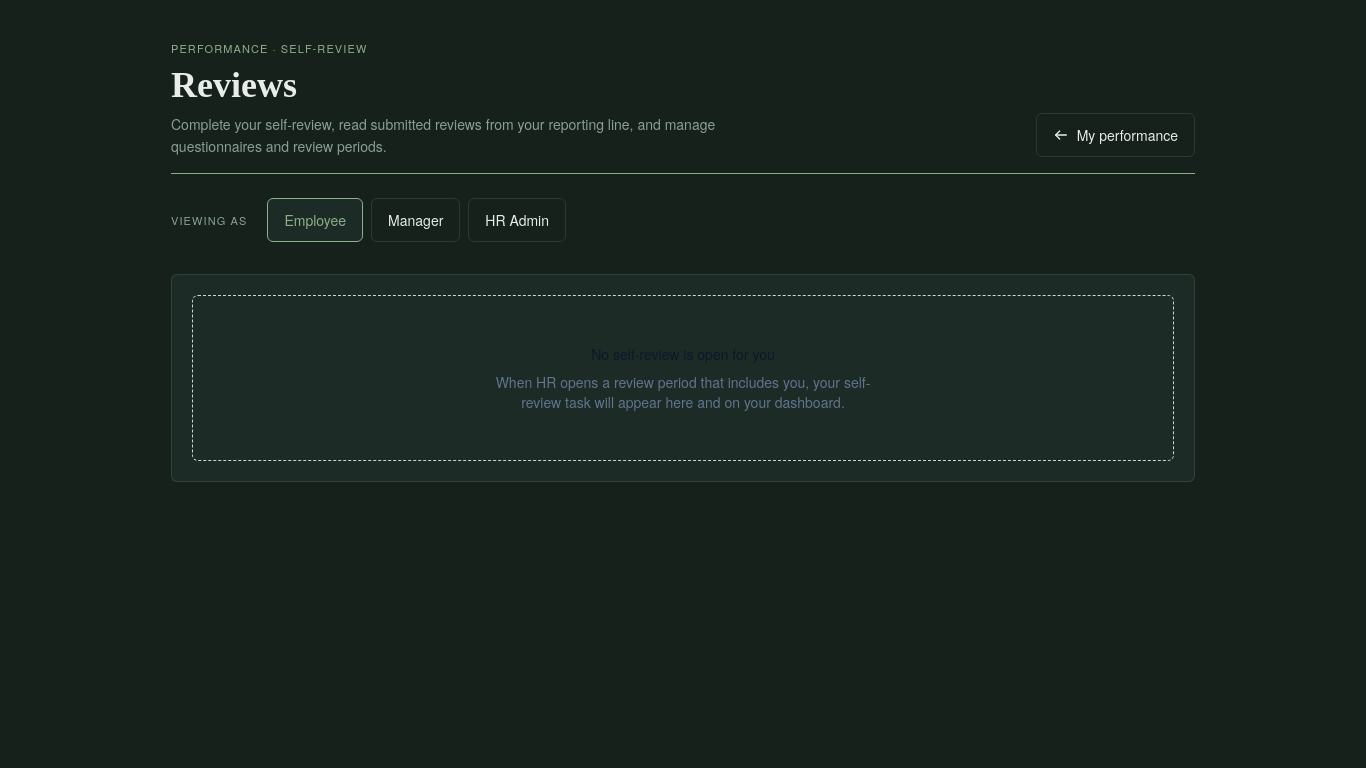
it: Review periods › [NFR-019] shows the API's per-field messages against the fields on a 422
The image size is (1366, 768).
Click the tab "HR Admin".
click(517, 220)  # box [468, 198, 566, 242]
(page scrolled)
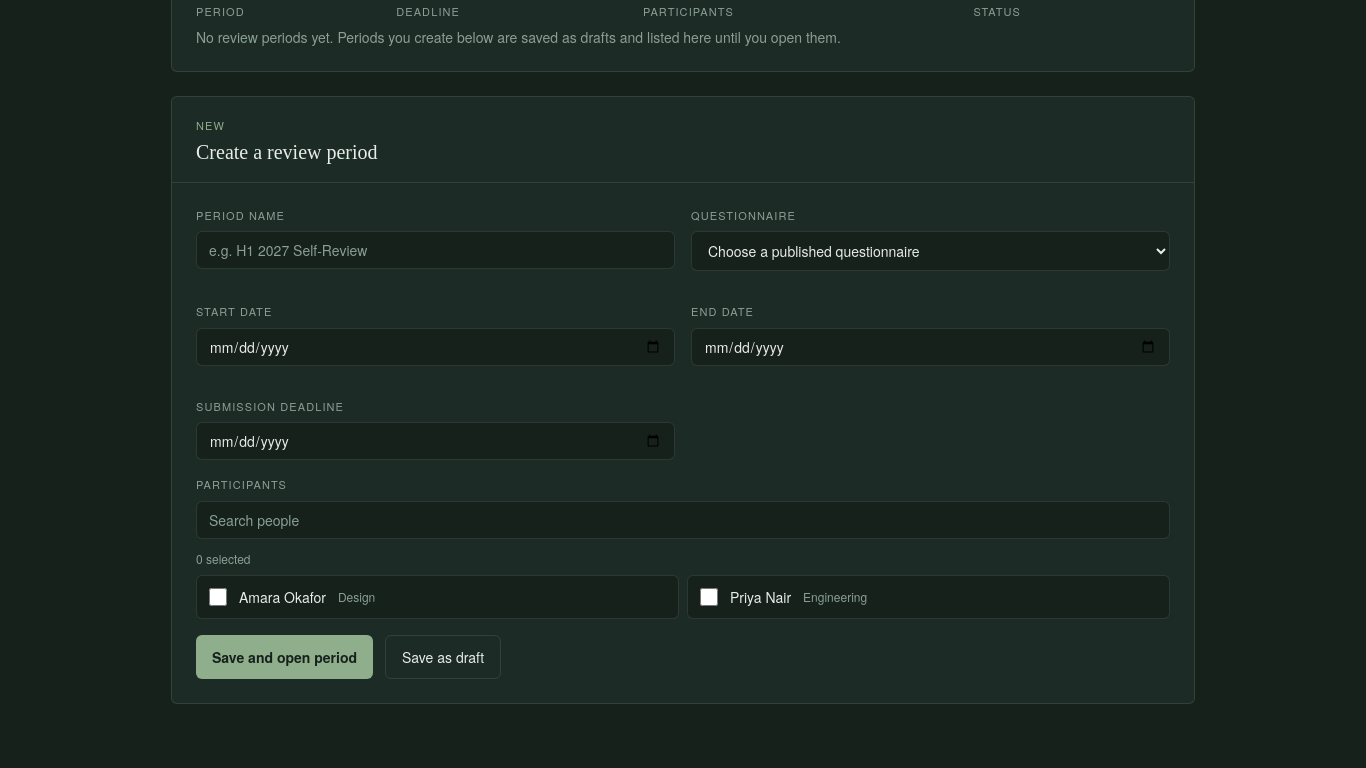
Click the button "Save as draft".
click(443, 657)  # box [385, 635, 501, 679]
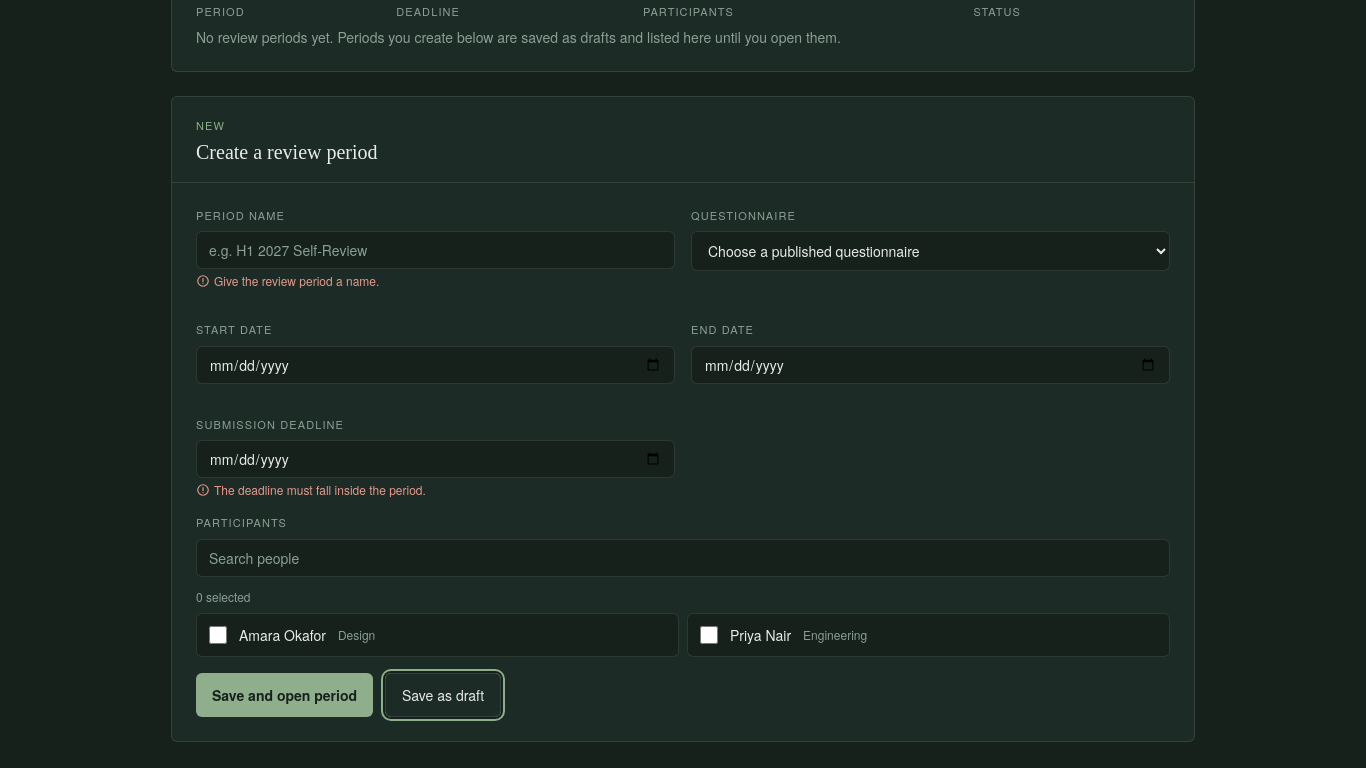
Result: the text "Give the review period a name." is shown at [196, 272, 379, 290]
Result: the text "The deadline must fall inside the period." is shown at [196, 482, 426, 498]
